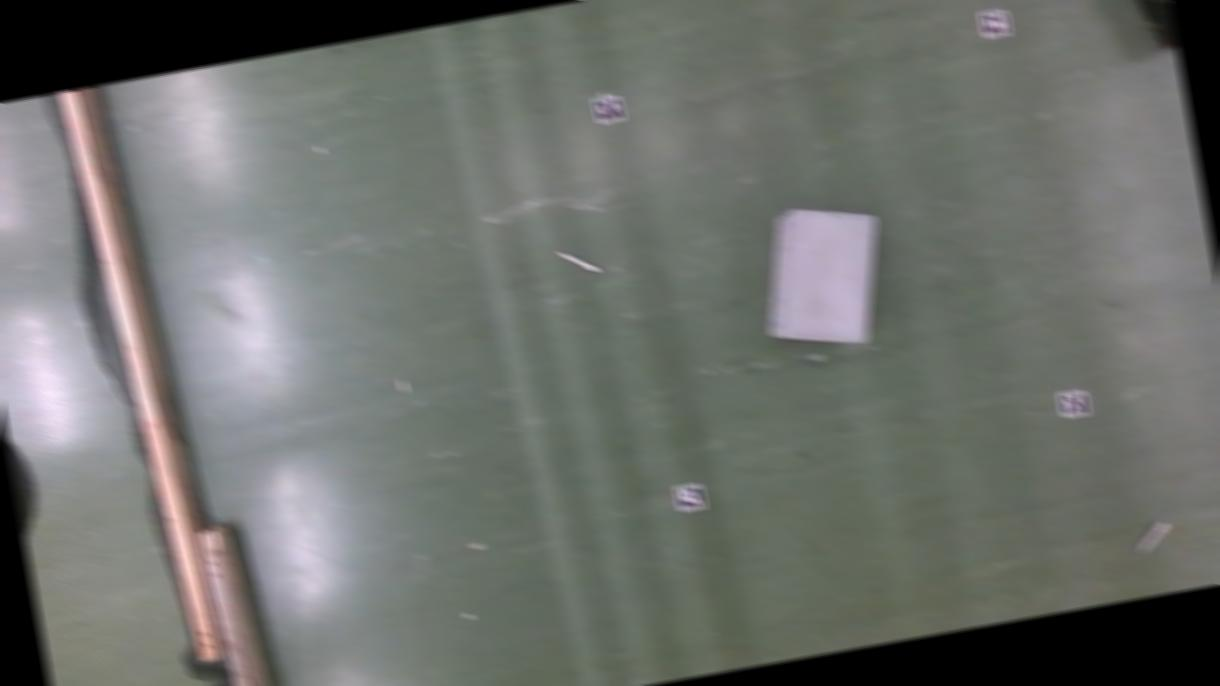probes: (558, 243, 598, 277), (1134, 518, 1171, 552)
rako: (747, 194, 898, 356), (1103, 0, 1179, 54)
